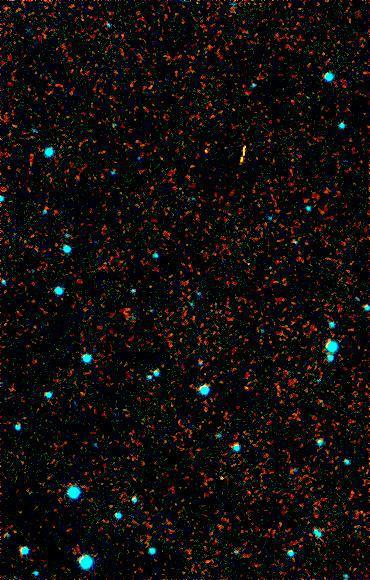star: (231, 369, 261, 399)
